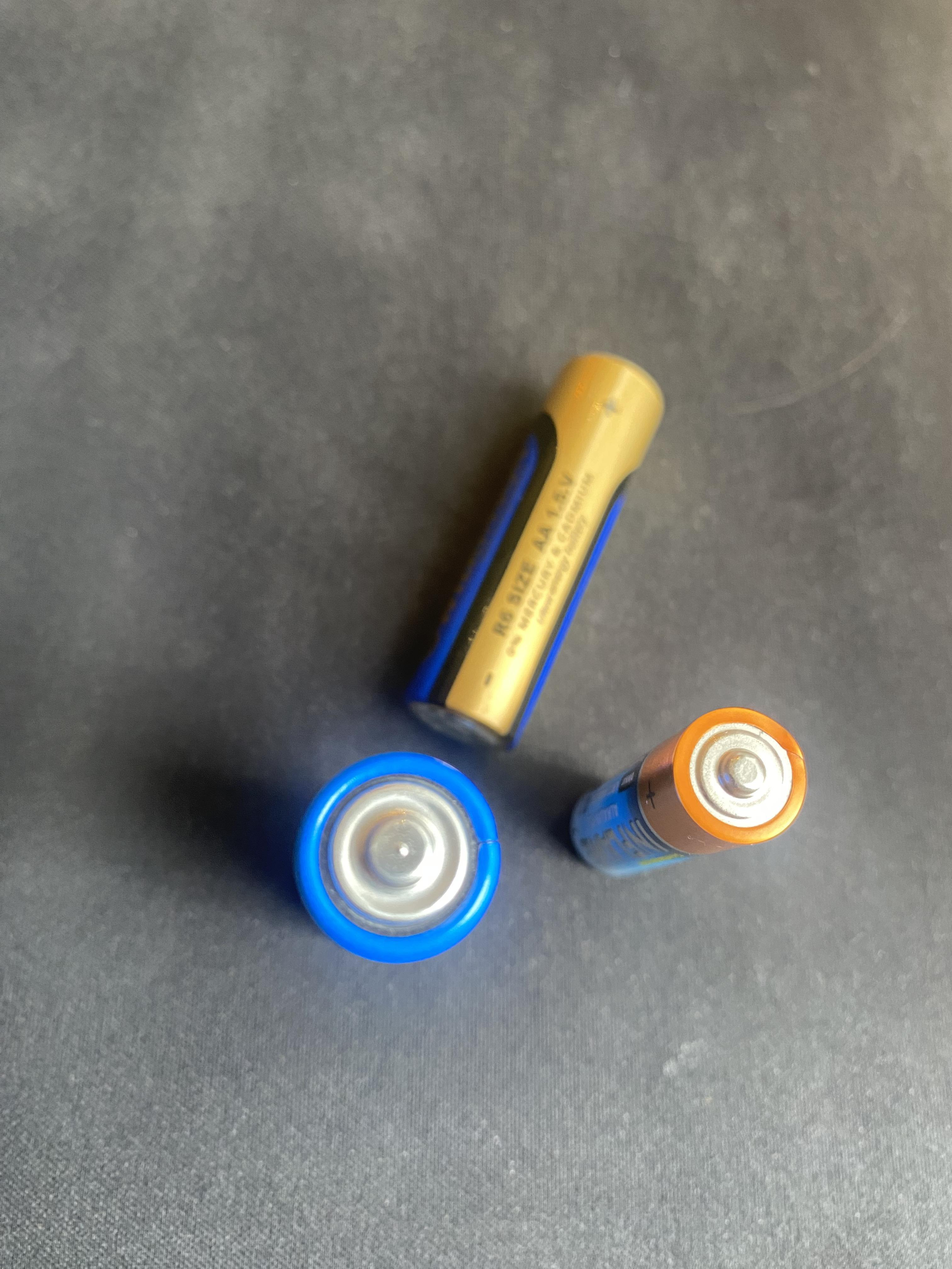AA: (402, 348, 675, 759), (565, 704, 817, 887)
